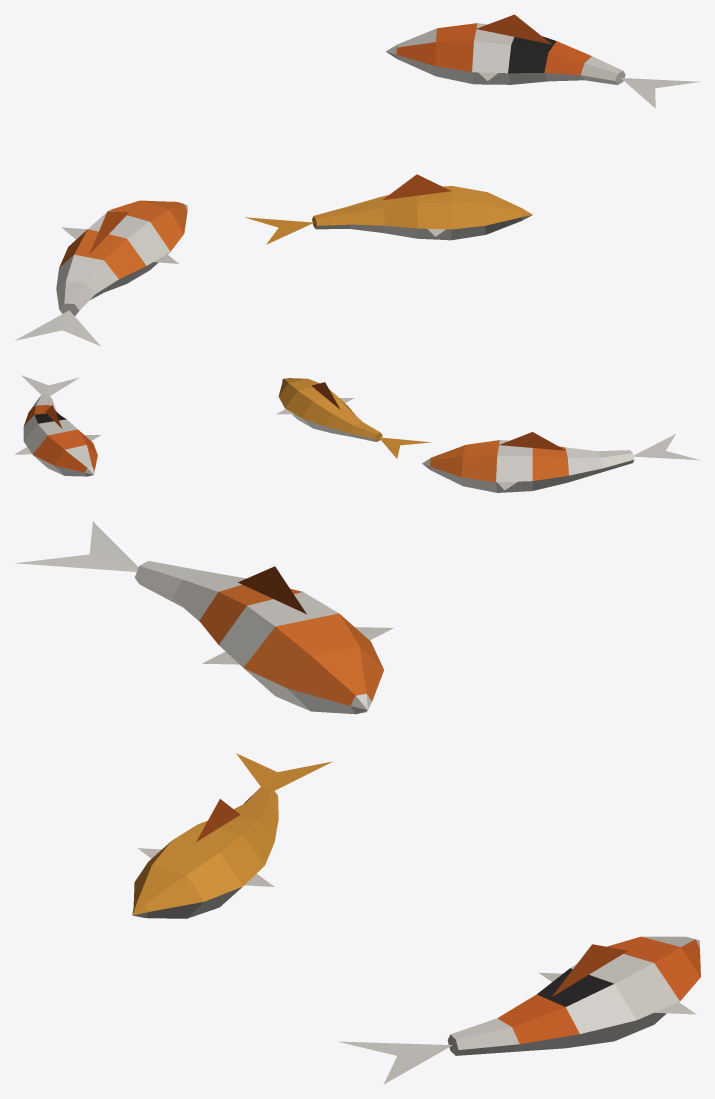
Rendered from zen_koi.glb.
The picture shows the model from 3 angles, top to bottom: view 1: azimuth 30°, elevation 25°; view 2: azimuth 150°, elevation 25°; view 3: azimuth 270°, elevation 25°; orthographic projection. The views are drawn at different scales.
Parts seen in each view (by area): view 1: zen_koi; view 2: zen_koi; view 3: zen_koi.
Part boxes in pixels (left/top/right/bottom): zen_koi: left=14, top=14, right=700, bottom=346; zen_koi: left=14, top=375, right=699, bottom=492; zen_koi: left=15, top=521, right=700, bottom=1084.
Bounding box in the file's own units: 2.38 × 0.2257 × 1.25.
